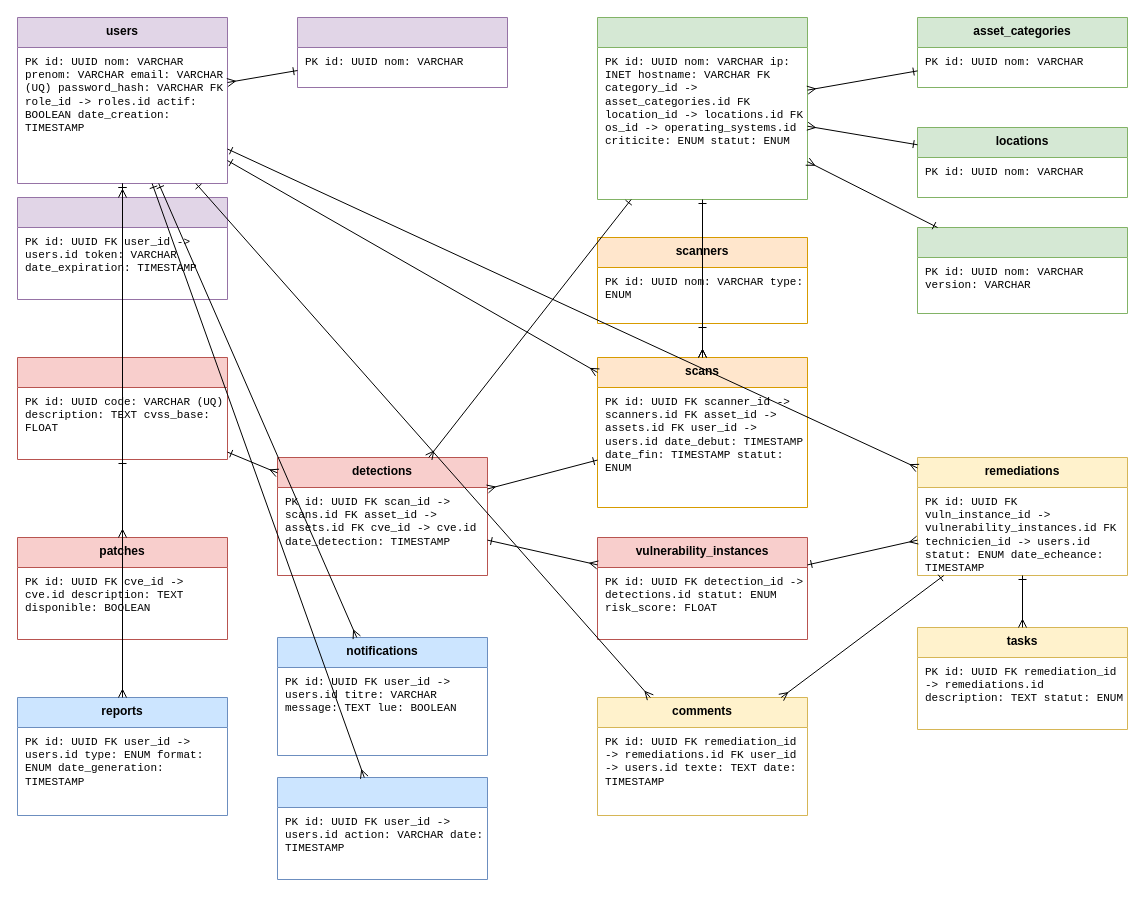
The diagram is 1145 pixels wide and 897 high, and some of its shapes have lost their labels. Each missing label, with the box of its shape:
assets: (596, 16, 808, 200)
audit_logs: (276, 776, 488, 880)
cve: (16, 356, 228, 460)
operating_systems: (916, 226, 1128, 314)
roles: (296, 16, 508, 88)
sessions: (16, 196, 228, 300)
